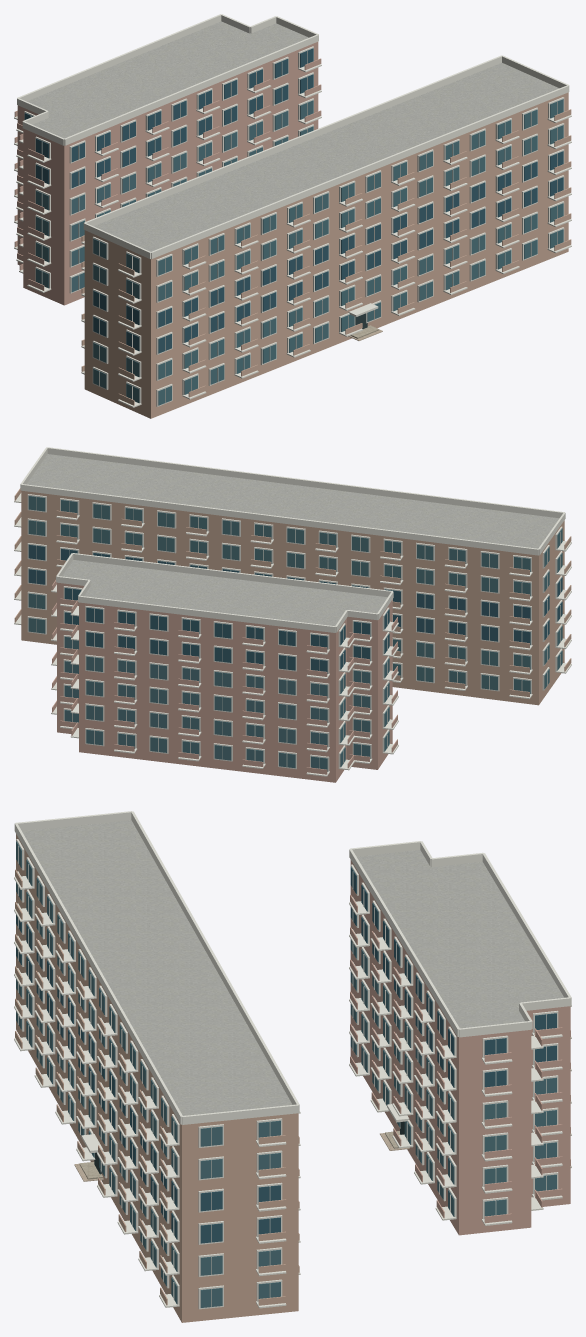
The model's file is chunk-n1-p1.glb.
3 renders of one model, top to bottom at view 1: azimuth 30°, elevation 25°; view 2: azimuth 150°, elevation 25°; view 3: azimuth 270°, elevation 25°, orthographic. The views are drawn at different scales.
Visible parts, largest first — view 1: chunk-n1-p1; view 2: chunk-n1-p1; view 3: chunk-n1-p1.
Part boxes in pixels (left/top/right/bottom): chunk-n1-p1: left=14, top=14, right=571, bottom=418; chunk-n1-p1: left=14, top=447, right=571, bottom=782; chunk-n1-p1: left=14, top=811, right=571, bottom=1322.
Size of the model in its own units: 67.16 by 21.46 by 51.73.
Materials: 9 (3 with a texture image).
